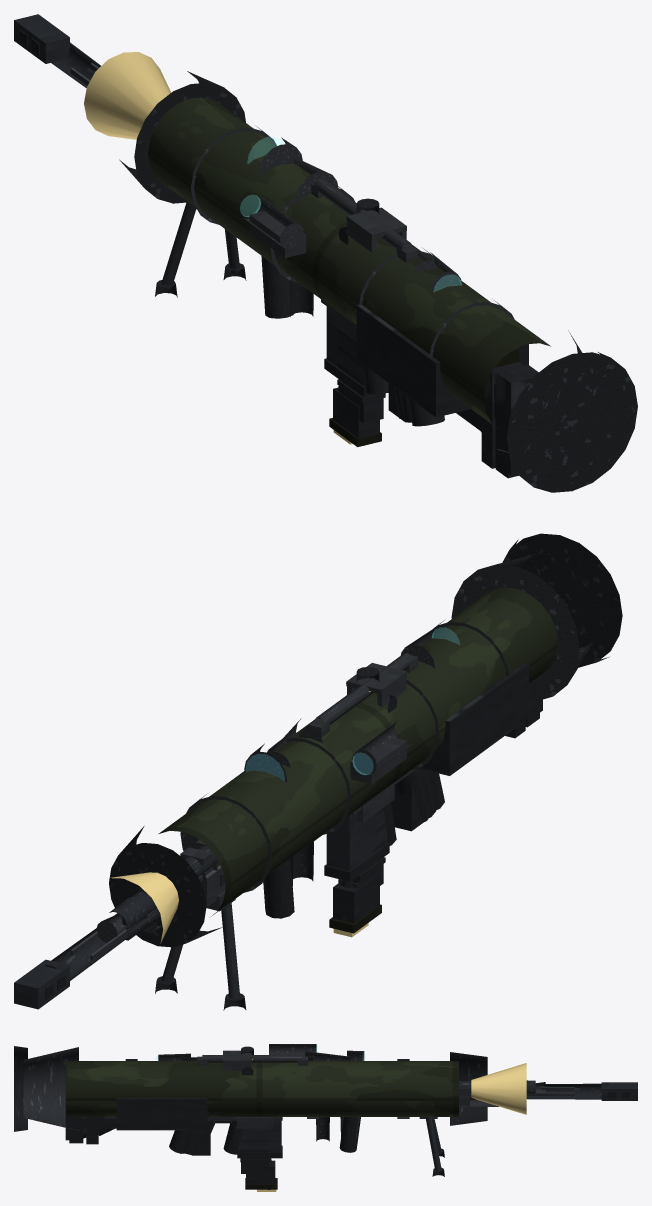
Rendered from weapons_pack.glb.
3 views of the same model, one above another, from view 1: azimuth 30°, elevation 25°; view 2: azimuth 150°, elevation 25°; view 3: azimuth 270°, elevation 25° (orthographic). The views are drawn at different scales.
Parts seen in each view (by area): view 1: RL7_Launcher, SR9_Sniper, AR7_Carbine, SG12_Shotgun, SMG9_Tactical; view 2: RL7_Launcher, SR9_Sniper, AR7_Carbine, SG12_Shotgun, SMG9_Tactical; view 3: RL7_Launcher, SR9_Sniper, AR7_Carbine, SG12_Shotgun, SMG9_Tactical.
Boxes of the visible parts, box(x1,y1,x2,y2) form: RL7_Launcher: box(84, 52, 637, 492); SR9_Sniper: box(14, 14, 538, 474); AR7_Carbine: box(321, 207, 524, 468); SG12_Shotgun: box(408, 377, 518, 478); SMG9_Tactical: box(290, 243, 481, 444); RL7_Launcher: box(96, 533, 622, 947); SR9_Sniper: box(14, 628, 542, 1010); AR7_Carbine: box(120, 663, 525, 940); SG12_Shotgun: box(109, 682, 539, 933); SMG9_Tactical: box(201, 769, 424, 937); RL7_Launcher: box(14, 1044, 545, 1154); SR9_Sniper: box(65, 1046, 637, 1176); AR7_Carbine: box(86, 1050, 476, 1189); SG12_Shotgun: box(69, 1080, 535, 1153); SMG9_Tactical: box(98, 1117, 329, 1191).
Size of the model in its own units: 0.177 by 0.307 by 1.24.
Materials: 9 (5 with a texture image).
